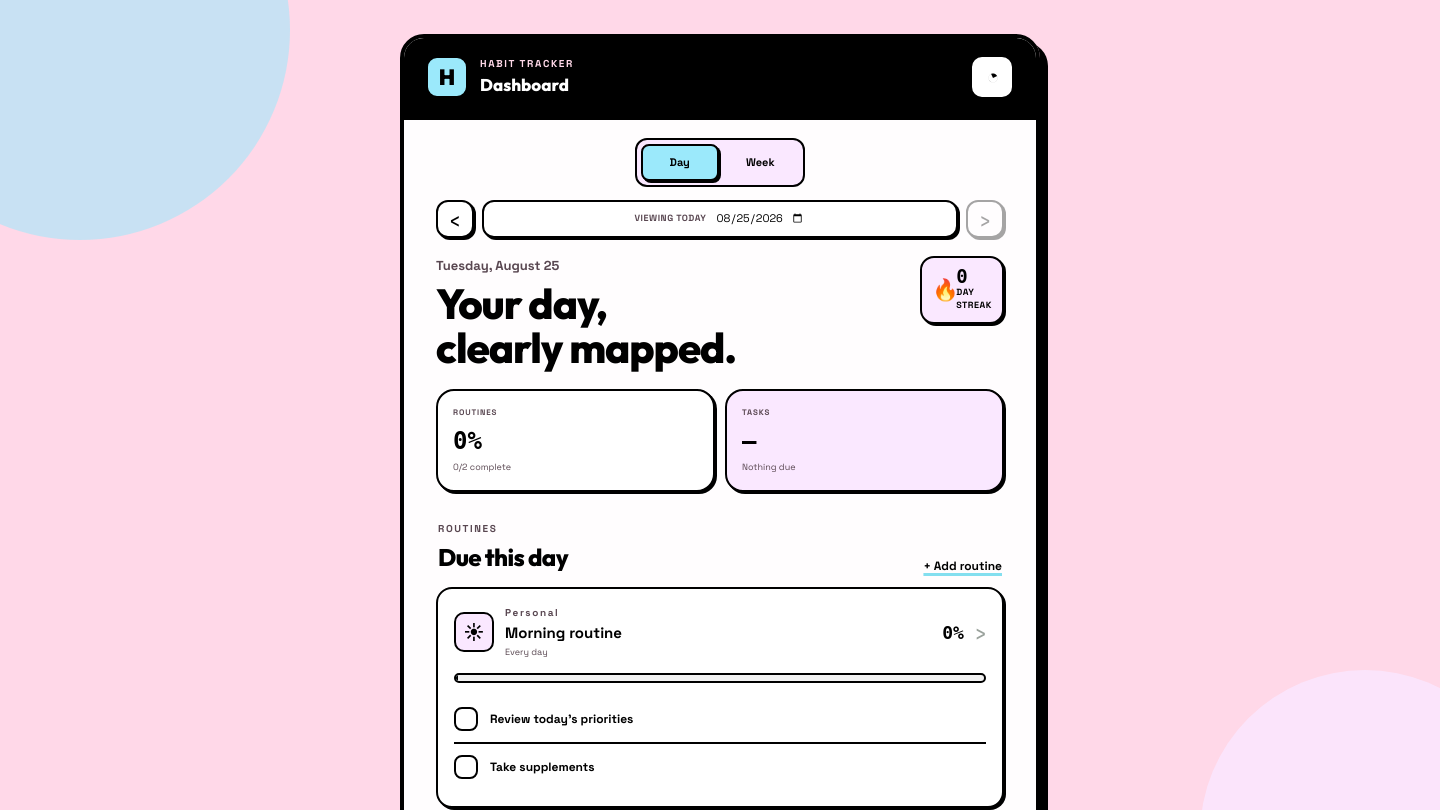
Test: app foundation integration › opens routine details from the card header without blocking check-ins
The width and height of the screenshot is (1440, 810).
Click the button with aria-label "Open Morning routine details" at (474, 632), box [454,605,986,660]
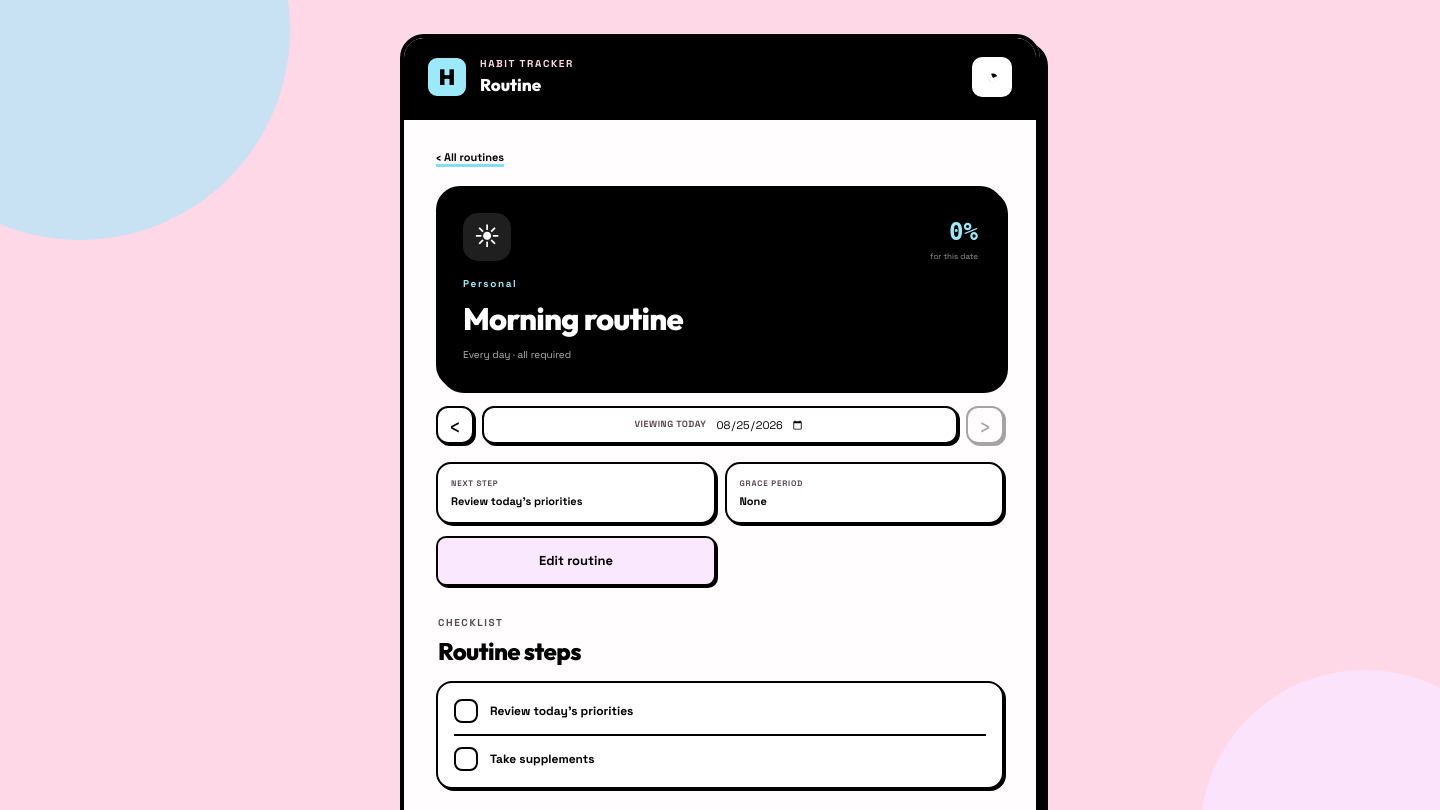
Check: the heading "Morning routine" is shown, box [463,298,683,338]
Check: the button "‹ All routines" is shown, box [436,143,504,172]
